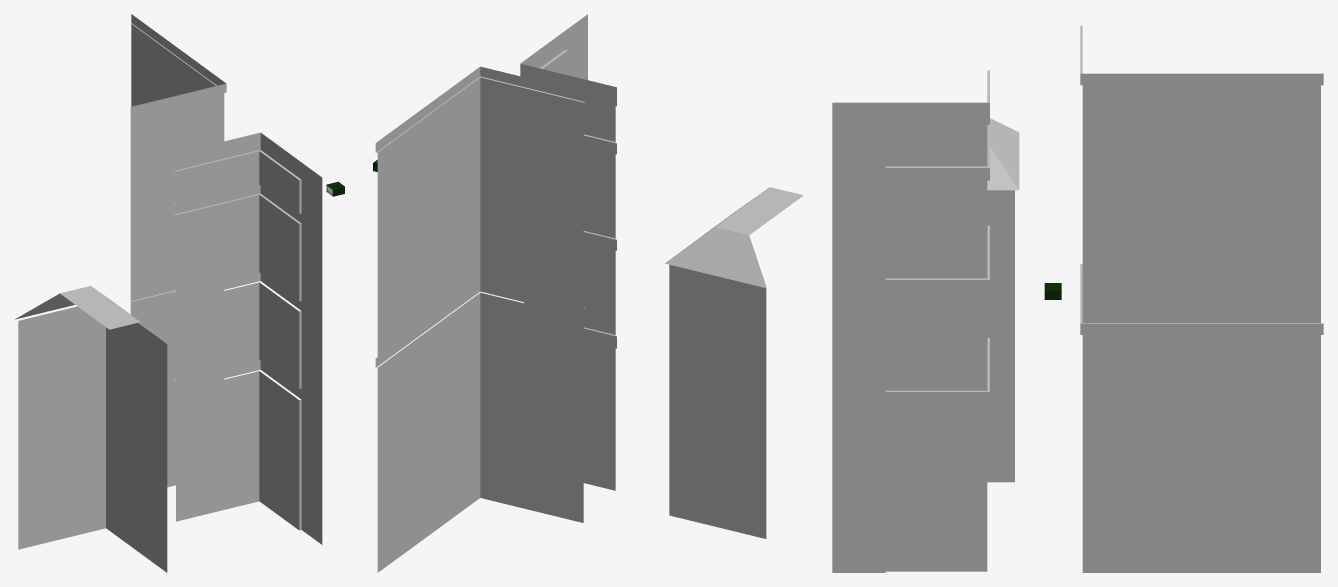
The model's file is RoomMap_Model.fbx.
3 views of the same model, side by side, from view 1: azimuth 30°, elevation 25°; view 2: azimuth 150°, elevation 25°; view 3: azimuth 270°, elevation 25° (orthographic). The views are drawn at different scales.
Parts seen in each view (by area): view 1: Buildings; view 2: Buildings; view 3: Buildings.
Part boxes in pixels (x1,y1,x2,y2): Buildings: (15,14,322,572); Buildings: (375,14,803,572); Buildings: (832,25,1323,572).
Size of the model in its own units: 187142 by 192012 by 210114.
